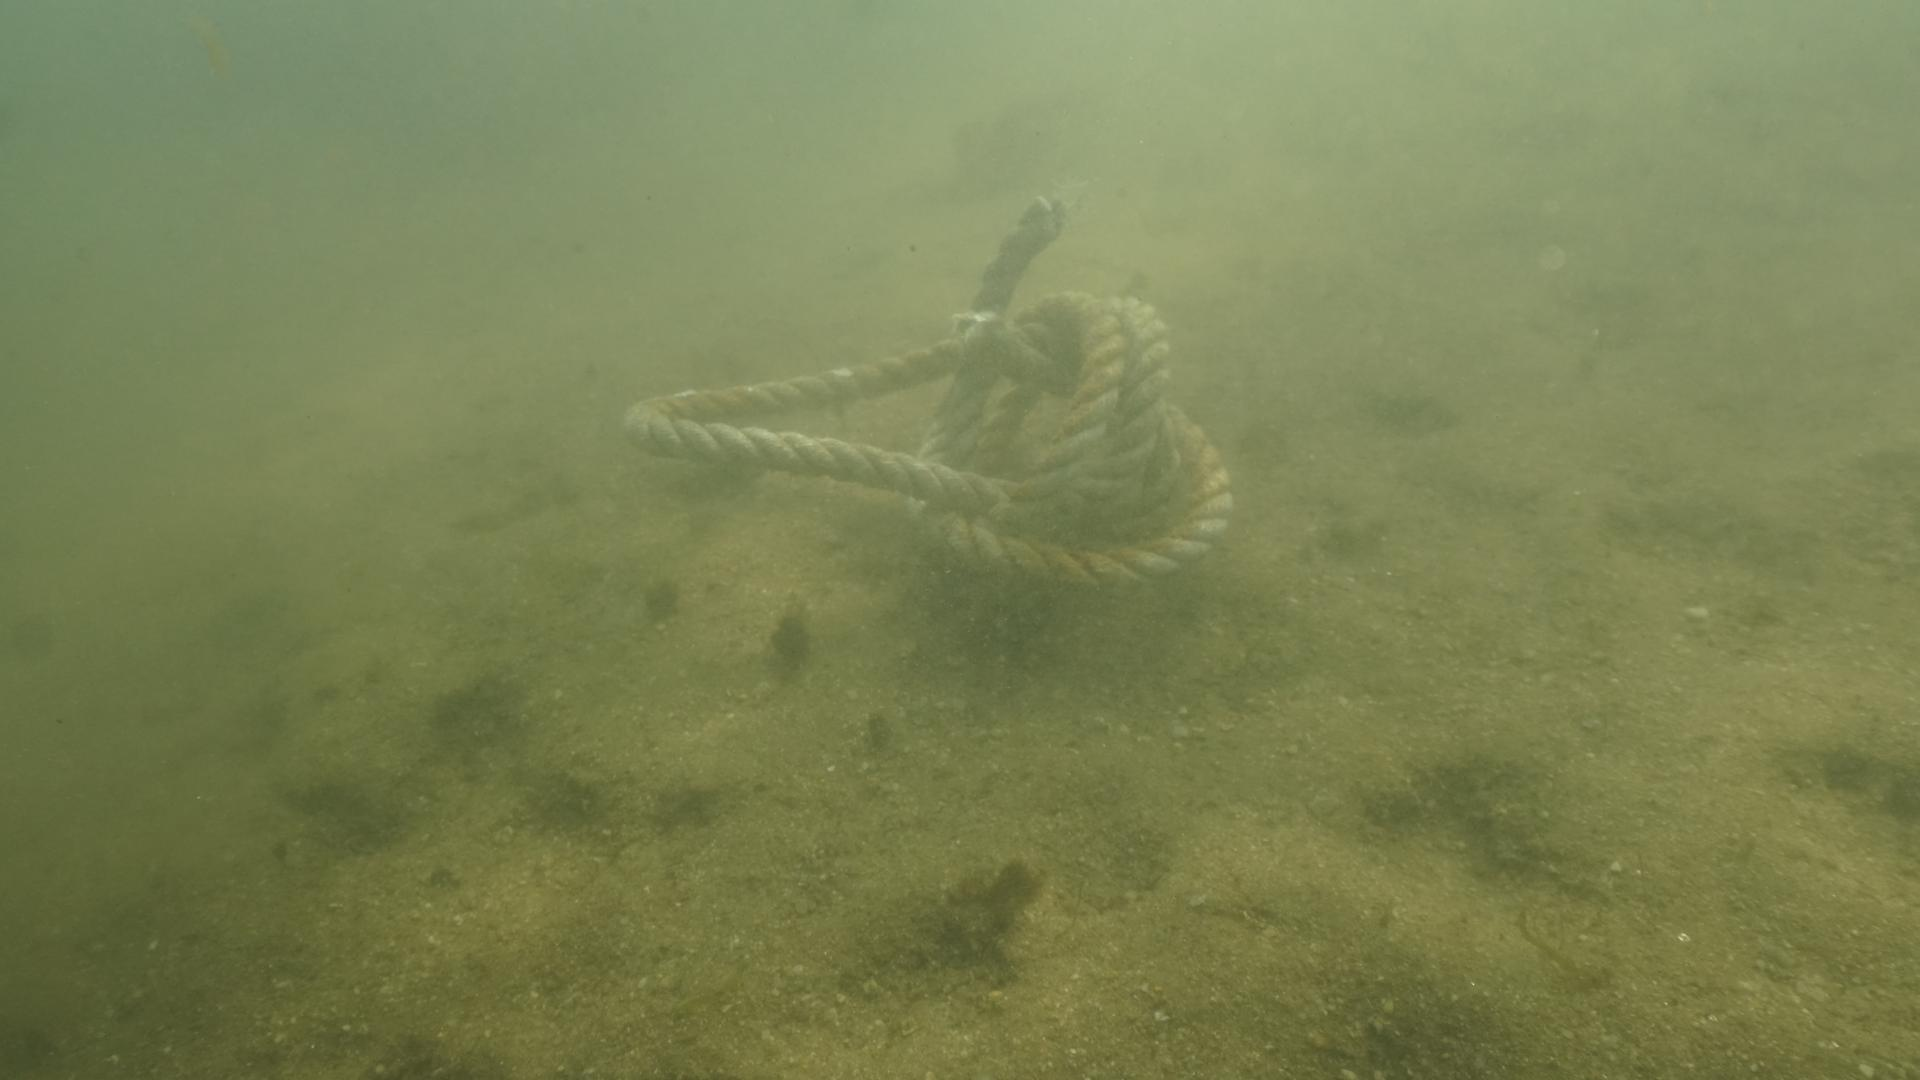bundle of ropes: (618, 190, 1238, 593)
